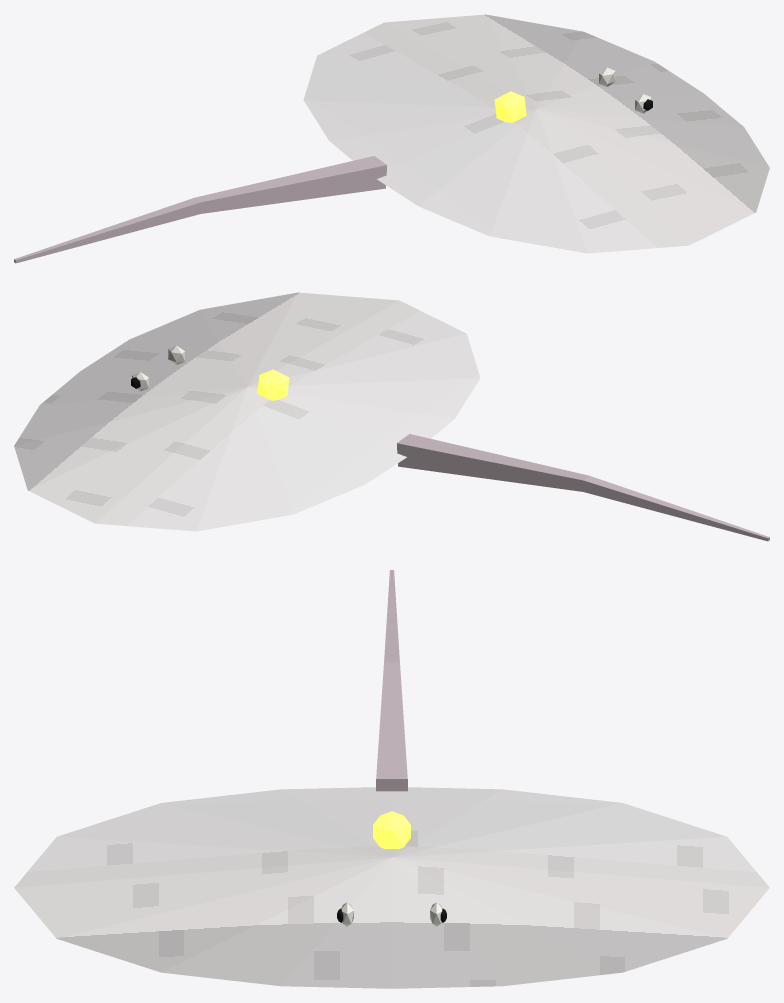
The model's file is the_pale_duchess.glb.
The picture shows the model from 3 angles, top to bottom: view 1: azimuth 30°, elevation 25°; view 2: azimuth 150°, elevation 25°; view 3: azimuth 270°, elevation 25°; orthographic projection. The views are drawn at different scales.
Visible parts, largest first — view 1: fish_the_pale_duchess; view 2: fish_the_pale_duchess; view 3: fish_the_pale_duchess.
Part boxes in pixels (x1,y1,x2,y2): fish_the_pale_duchess: (14,14,769,263); fish_the_pale_duchess: (14,292,769,541); fish_the_pale_duchess: (14,570,769,988).
Size of the model in its own units: 1.32 by 0.1112 by 1.01.
Materials: 5 (1 with a texture image).
